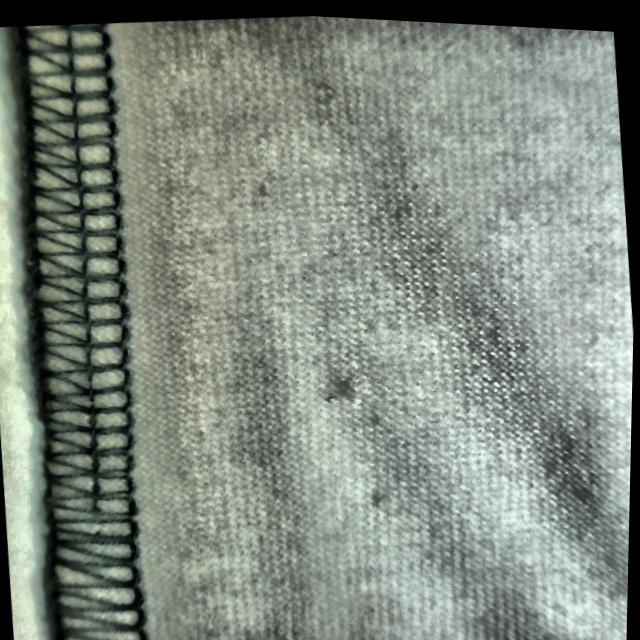Stitch: (30, 346, 164, 640)
